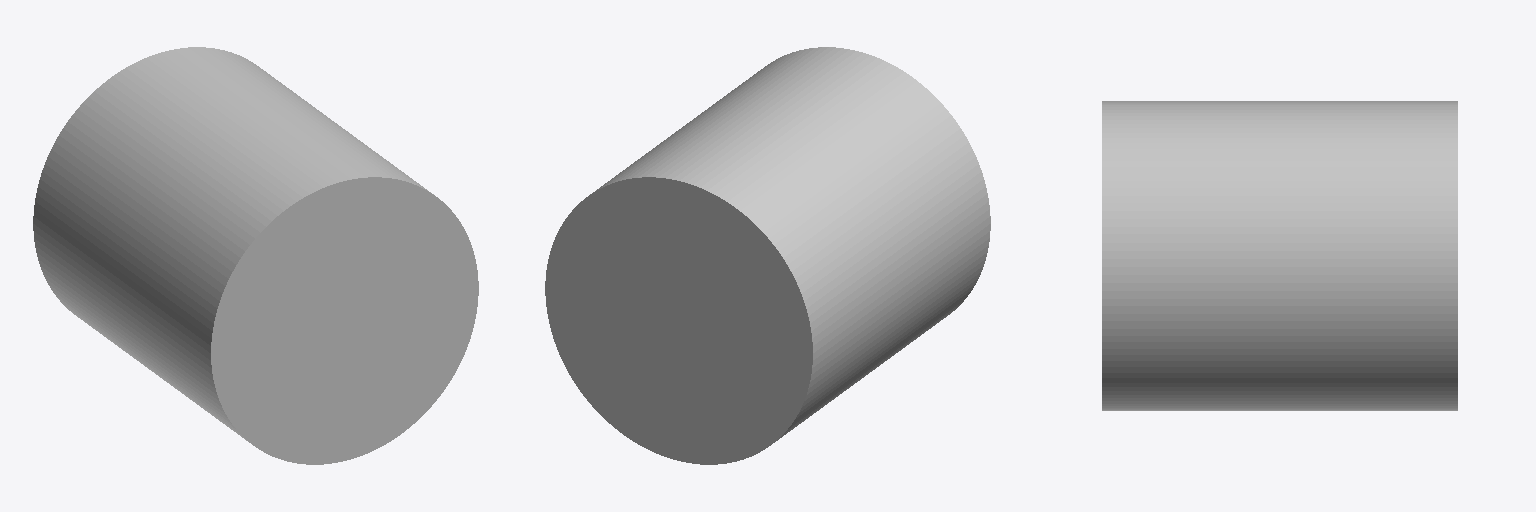
Rendered from vanish.obj.
3 renders of one model, left to right at view 1: azimuth 30°, elevation 25°; view 2: azimuth 150°, elevation 25°; view 3: azimuth 270°, elevation 25°, orthographic.
Size of the model in its own units: 0.1 by 0.1 by 0.115.